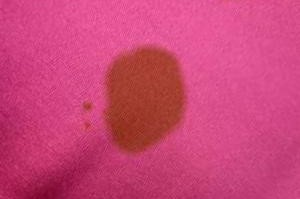stain: (101, 43, 190, 157), (81, 99, 97, 114), (82, 119, 95, 134)
